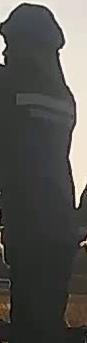helmet: (0, 1, 65, 54)
vest: (0, 70, 86, 259)
